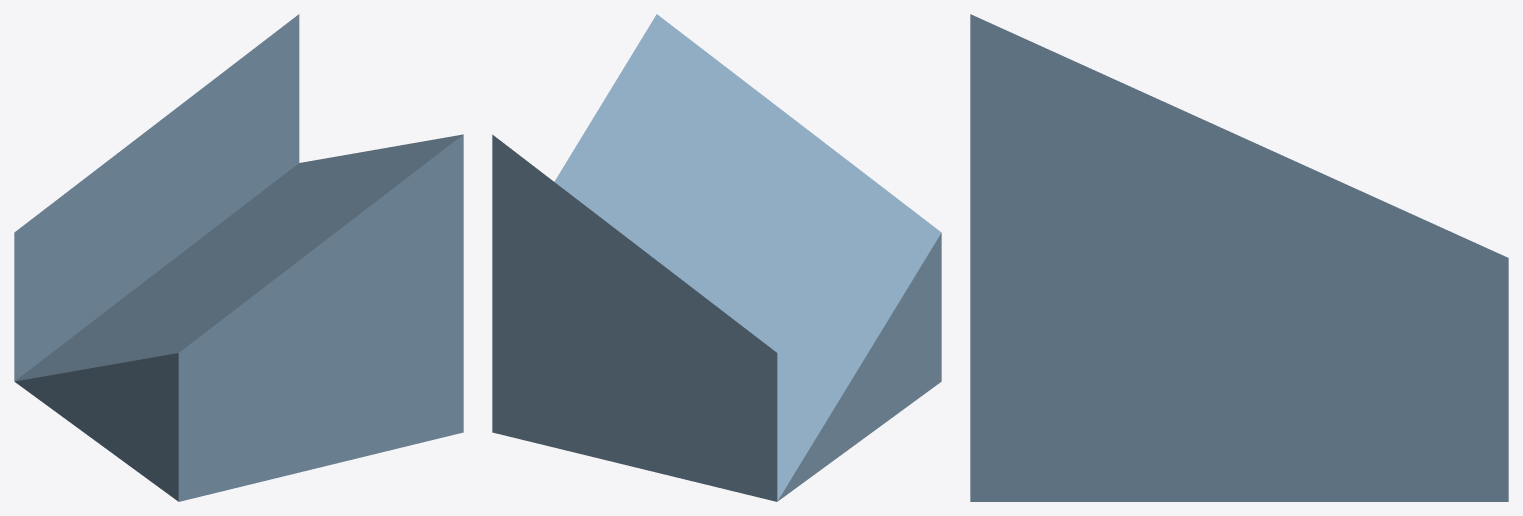
Rendered from OnOffConveyorB_Corner.glb.
3 views of the same model, side by side, from view 1: azimuth 30°, elevation 25°; view 2: azimuth 150°, elevation 25°; view 3: azimuth 270°, elevation 25° (orthographic). The views are drawn at different scales.
Parts seen in each view (by area): view 1: OnOffConveyorB_Corner_body; view 2: OnOffConveyorB_Corner_body; view 3: OnOffConveyorB_Corner_body.
Boxes of the visible parts, bbox=[...] form: OnOffConveyorB_Corner_body: bbox=[14, 14, 463, 501]; OnOffConveyorB_Corner_body: bbox=[492, 14, 941, 501]; OnOffConveyorB_Corner_body: bbox=[970, 14, 1508, 501].
Size of the model in its own units: 1 by 1 by 1.
